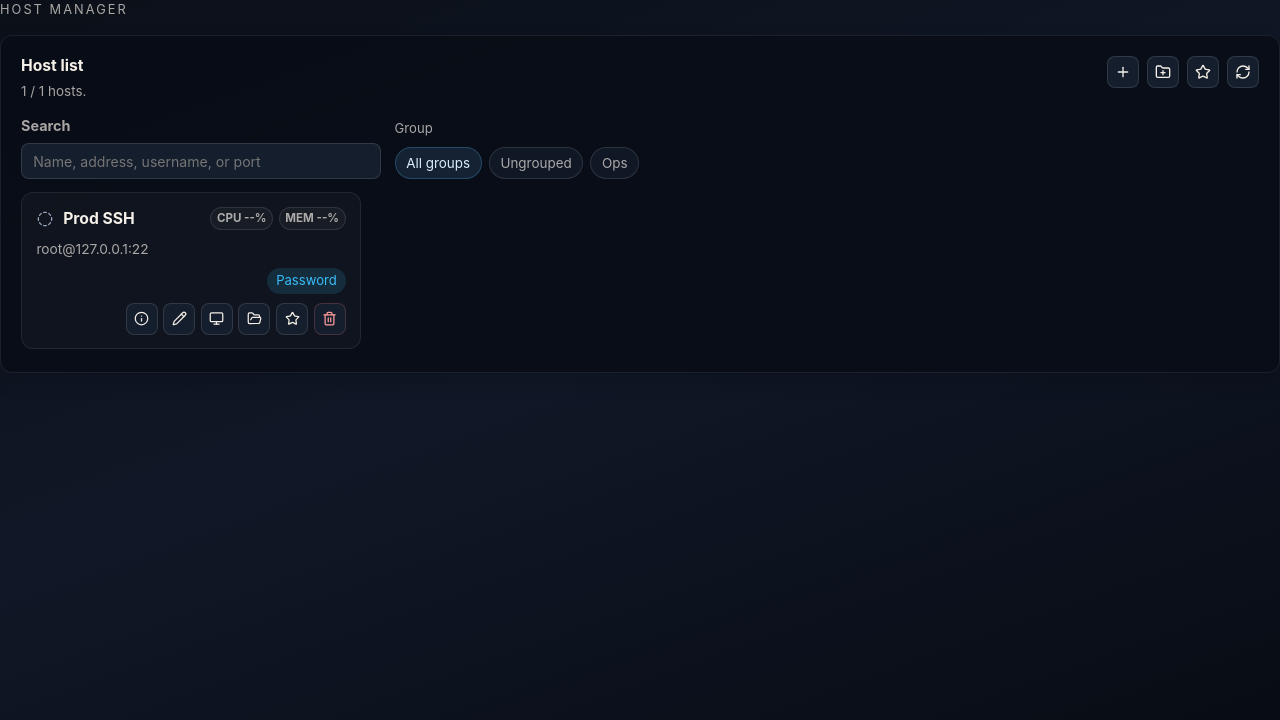
Scenario: HostsPage › localizes backend SSH probe messages when host testing fails
The width and height of the screenshot is (1280, 720).
Expected: the text "Prod SSH" is shown, 63,209 -> 135,228
Click the button named "Edit host" at (179, 319), box 163,303 -> 195,335
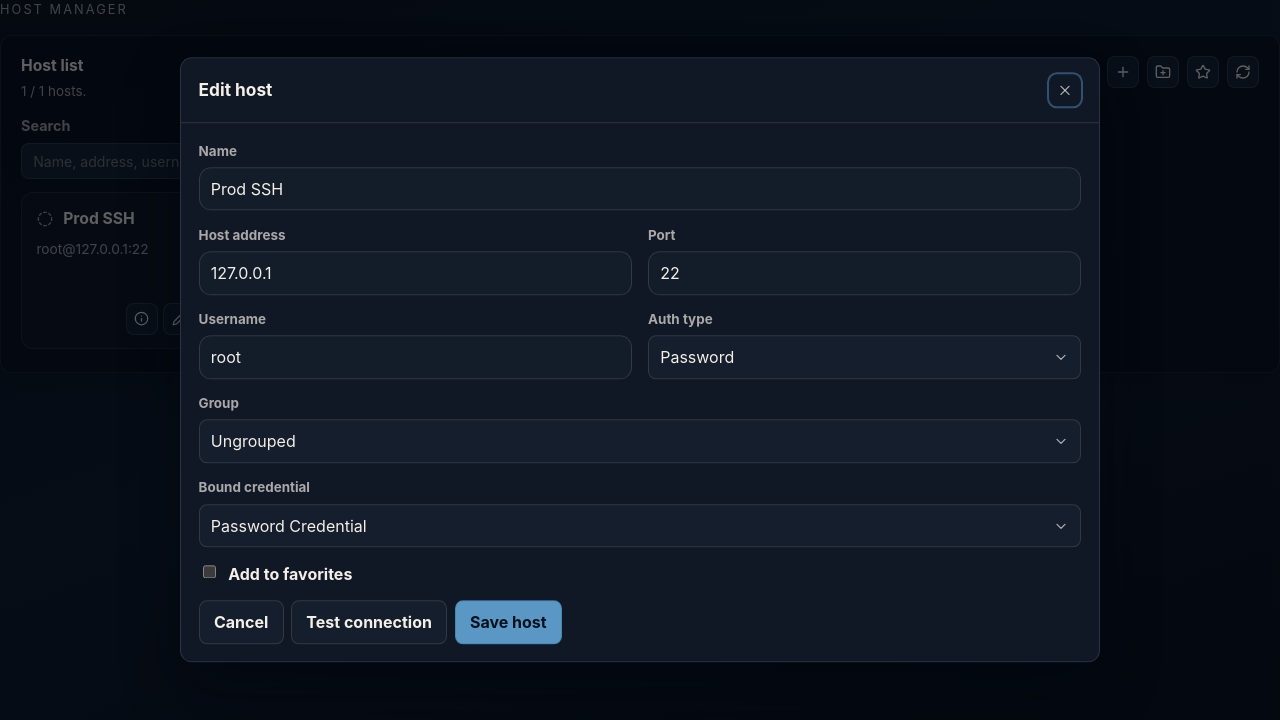
Click the button "Test connection" at (369, 622), box 291,600 -> 447,644
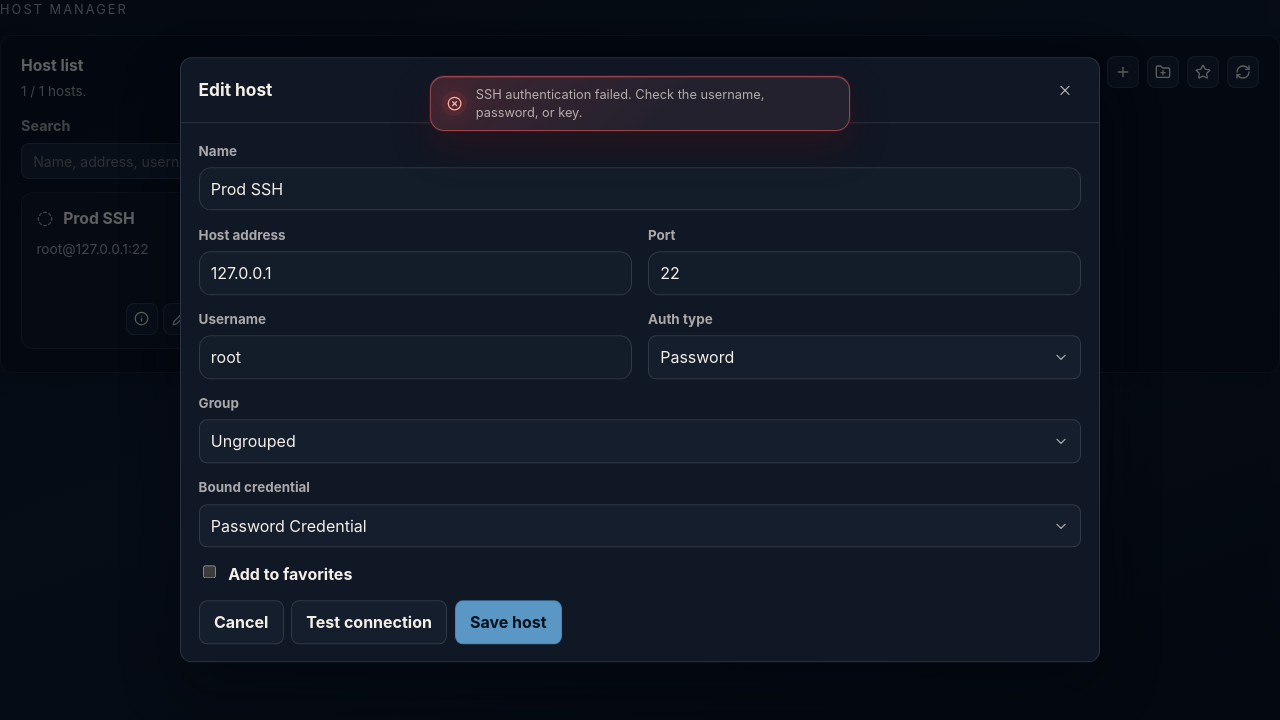
Expected: the text "SSH authentication failed. Check the username, password, or key." is shown, 476,86 -> 804,121
